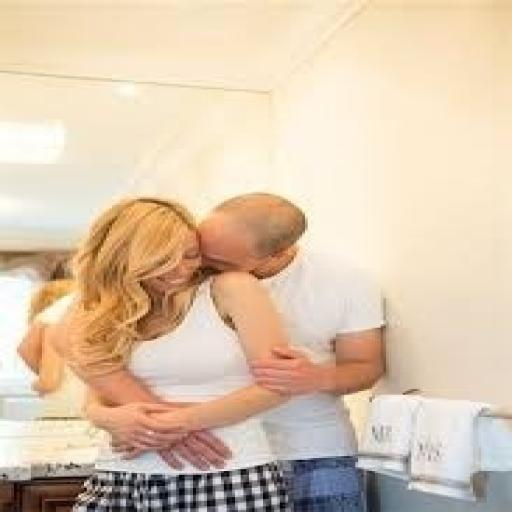hugging: (59, 194, 308, 510)
